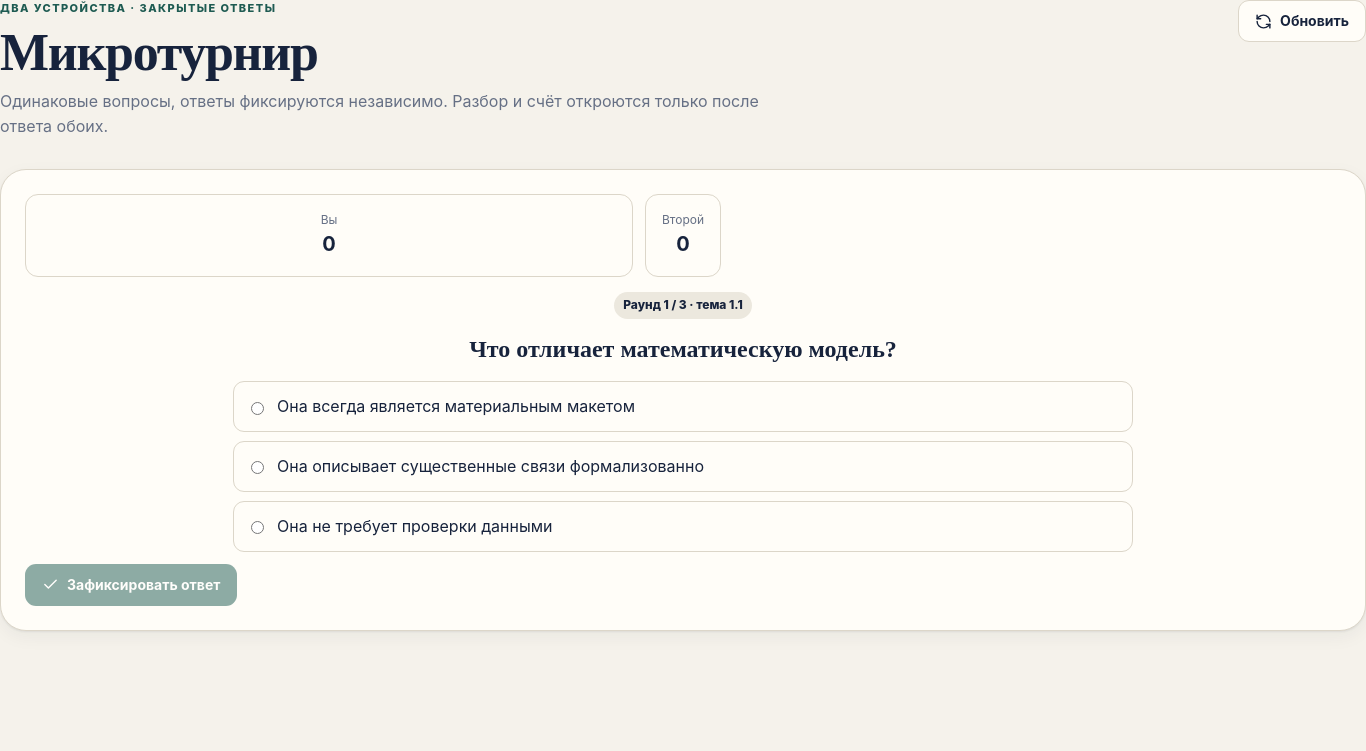
Test: PairSessionPage › keeps the first answer sealed until both users submit
Click the text "Она всегда является материальным макетом": {"x": 456, "y": 407} [277,394,635,419]
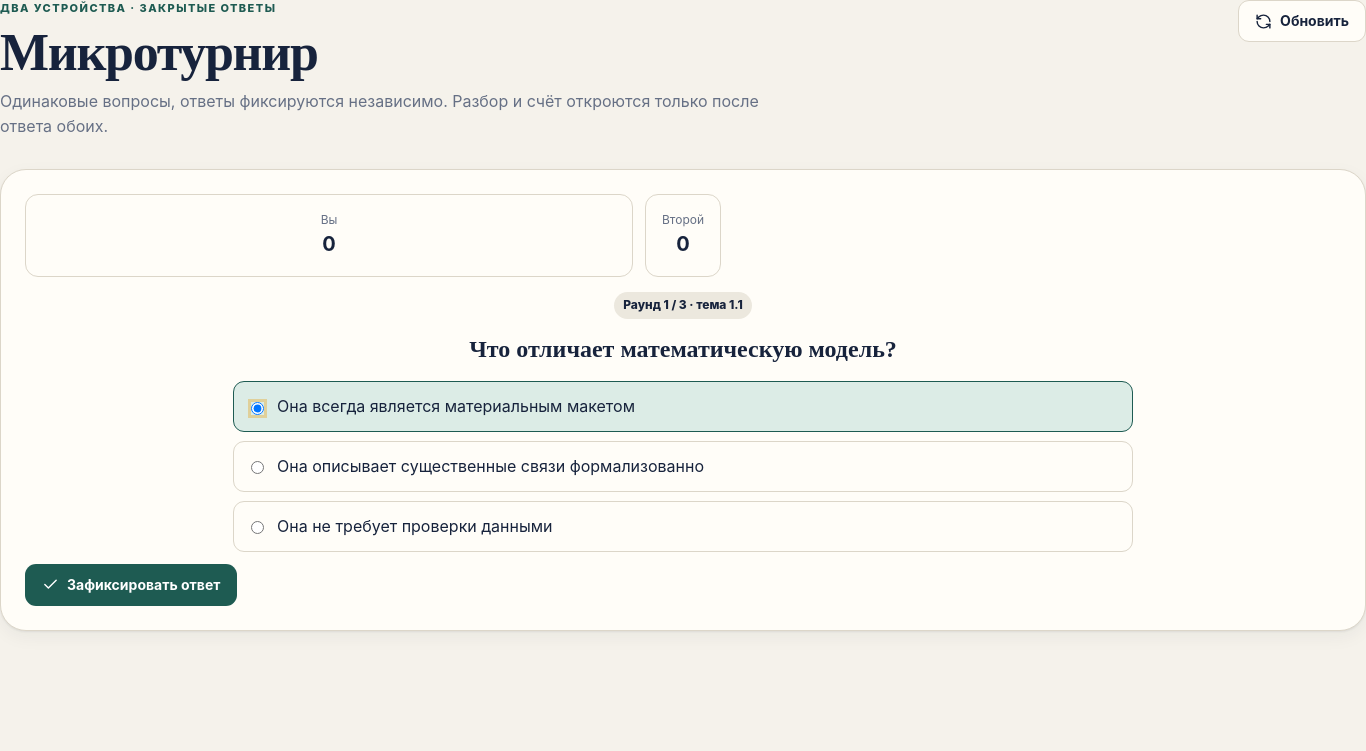
Click the button "Зафиксировать ответ": {"x": 131, "y": 585} [25,564,237,606]
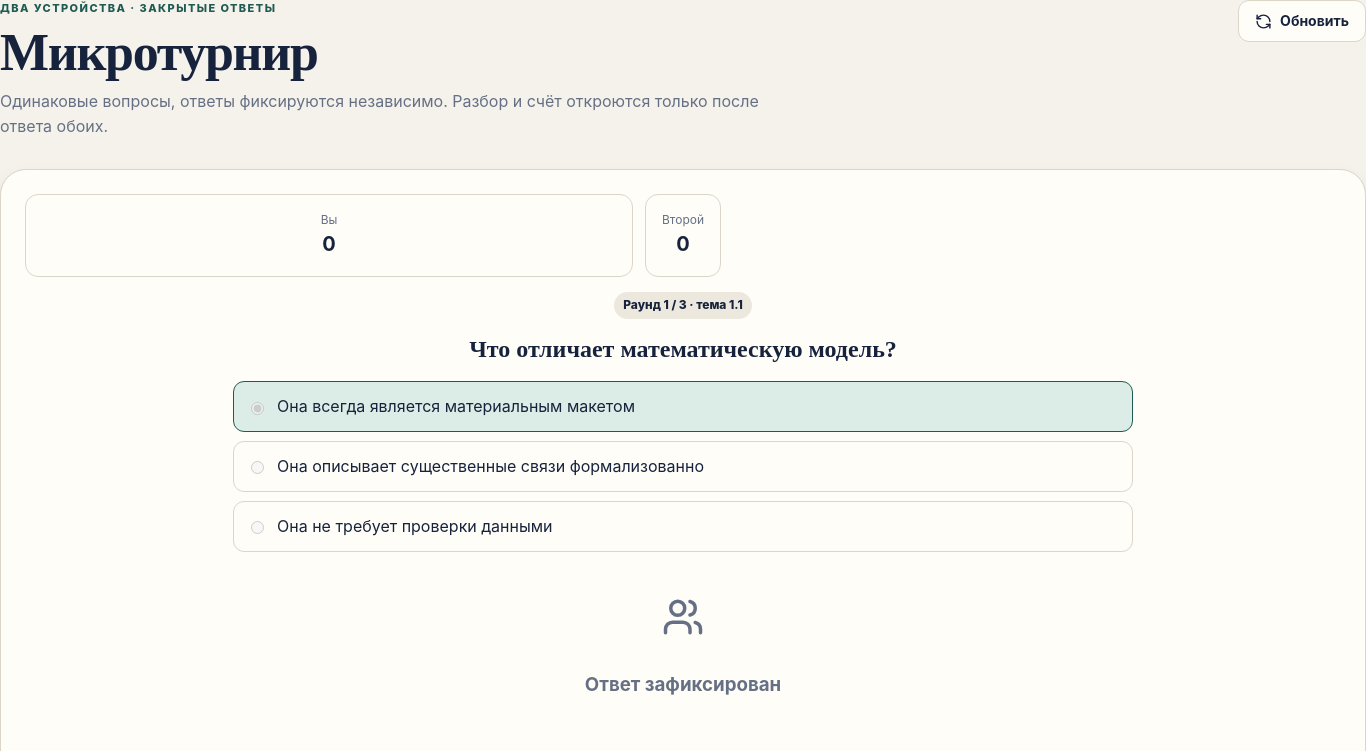
Expected: the text "Ответ партнёра ·" is not shown
Expected: the heading "Ответ зафиксирован" is shown, [585,670,781,699]
Click the button "Обновить": {"x": 1302, "y": 21} [1238,0,1365,42]
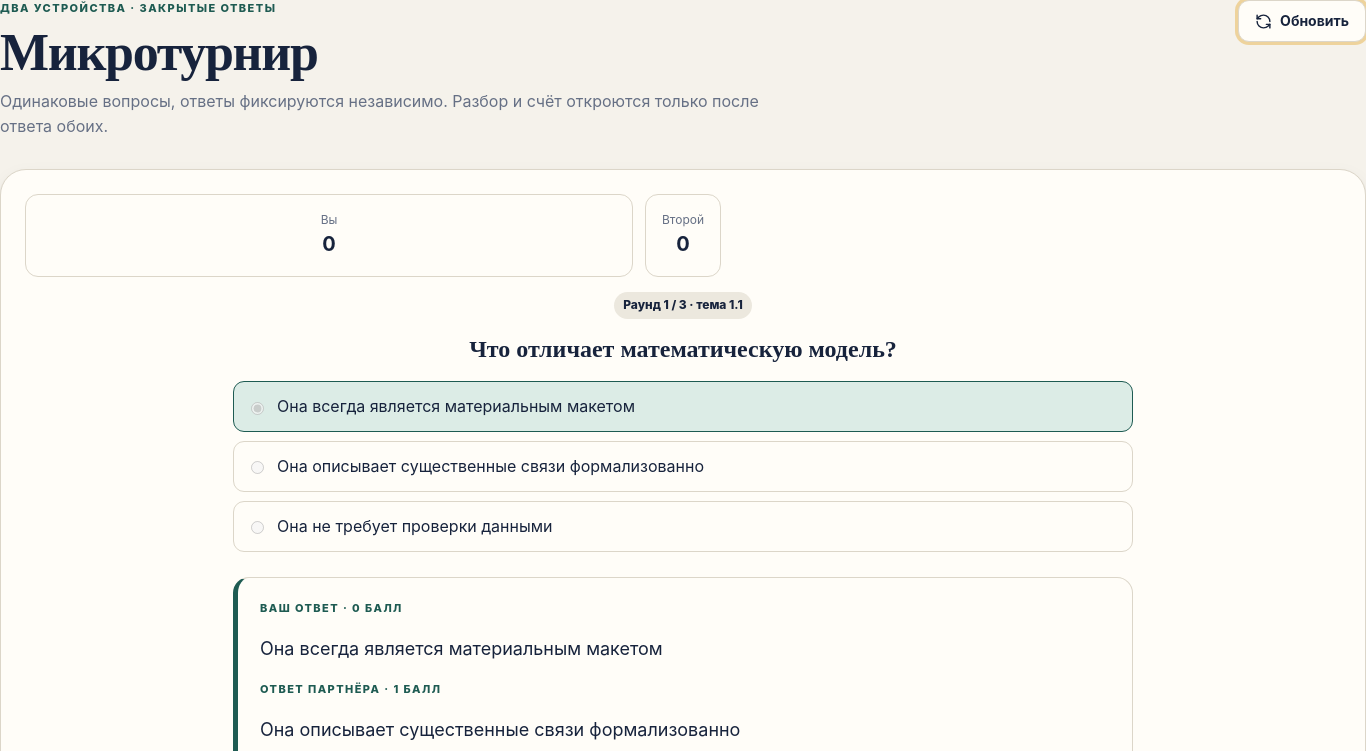
Expected: the text "Она описывает существенные связи формализованно" below "Что отличает математическую модель?" is shown, [277,456,704,476]
Expected: the text "Ответ партнёра · 1 балл" is shown, [260,682,441,696]
